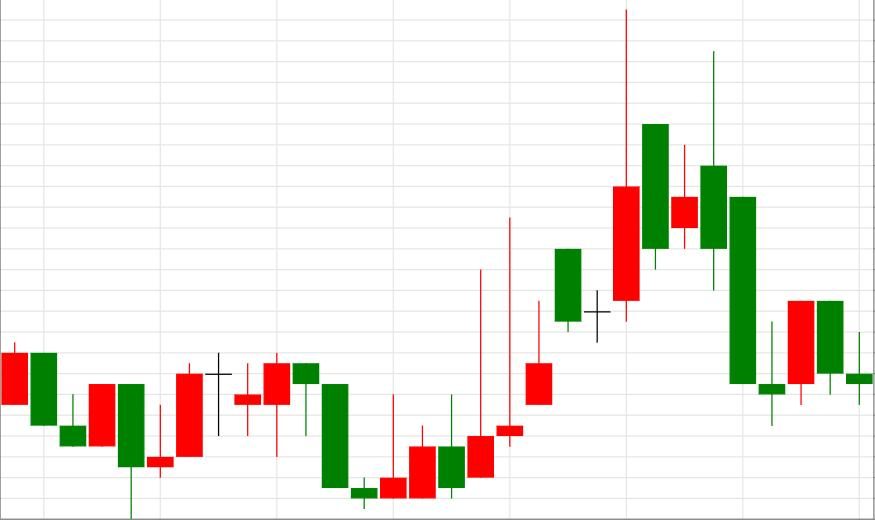morning_star_rise: (643, 52, 815, 426), (2, 342, 204, 518)
